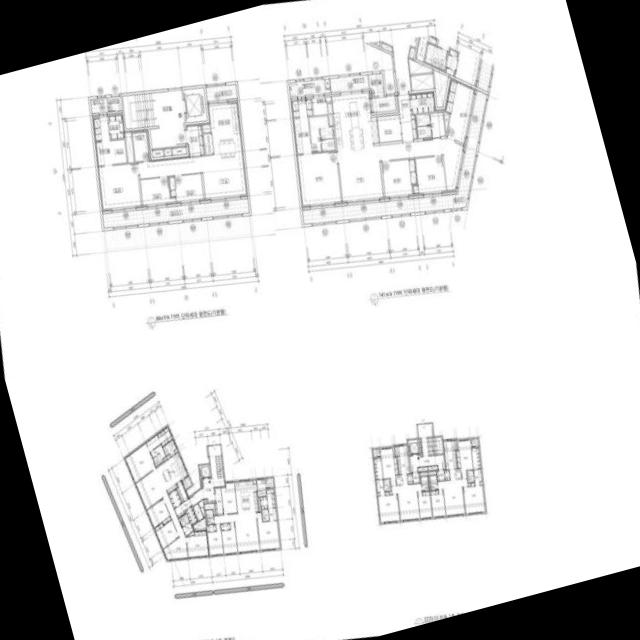background: (0, 0, 640, 640)
space_balconi: (302, 90, 487, 224), (102, 198, 249, 227), (330, 74, 369, 92), (289, 79, 330, 96), (205, 84, 237, 101), (90, 97, 108, 113), (182, 476, 192, 489), (265, 477, 274, 488)
space_bedroom: (296, 151, 341, 207), (97, 163, 141, 211), (444, 77, 475, 144), (382, 158, 417, 198), (412, 155, 446, 195), (124, 442, 155, 482), (168, 173, 204, 203), (140, 177, 176, 206), (256, 512, 280, 550), (146, 499, 171, 528), (379, 447, 398, 485), (377, 491, 399, 523), (463, 482, 485, 514), (154, 520, 178, 549), (377, 114, 401, 142), (456, 439, 473, 478), (186, 530, 209, 558), (221, 481, 237, 513), (221, 522, 237, 554), (207, 524, 223, 555), (430, 489, 445, 517), (417, 491, 432, 518), (207, 524, 216, 531), (221, 523, 230, 530)
space_dressroom: (292, 117, 311, 154), (92, 115, 110, 141), (290, 97, 313, 117), (108, 113, 124, 139), (157, 426, 173, 446), (373, 458, 383, 479), (471, 448, 480, 469), (266, 489, 275, 507), (473, 469, 482, 486), (376, 479, 385, 496), (260, 496, 267, 508)
space_elevator: (183, 87, 207, 122), (407, 439, 419, 454), (199, 464, 211, 478)
space_elevator_hall: (149, 89, 186, 149), (189, 445, 224, 506), (409, 423, 444, 471)
space_front: (396, 93, 417, 143), (185, 123, 204, 156), (410, 91, 435, 113), (174, 498, 191, 517), (214, 487, 223, 514), (169, 489, 181, 508), (185, 506, 197, 525), (436, 469, 444, 480), (412, 472, 420, 483)
space_kitchen: (331, 91, 379, 152), (207, 101, 243, 155), (156, 452, 188, 493), (234, 479, 258, 513), (443, 439, 461, 480), (394, 444, 410, 485)
space_living_room: (337, 138, 464, 203), (138, 152, 247, 200), (135, 468, 187, 560), (214, 512, 259, 552), (437, 478, 468, 516), (391, 483, 421, 520)
space_multipurpose_space: (312, 95, 331, 115)
space_other: (382, 37, 417, 92), (433, 69, 448, 107), (372, 95, 396, 112), (410, 73, 434, 90), (408, 58, 432, 74), (124, 131, 134, 162), (176, 480, 188, 502), (162, 439, 176, 456), (203, 133, 213, 154), (256, 478, 266, 496), (193, 503, 203, 520), (193, 517, 206, 529), (327, 103, 333, 125), (198, 499, 205, 517), (204, 503, 215, 514), (172, 147, 186, 155), (381, 42, 392, 52), (444, 112, 449, 132), (152, 149, 163, 157), (202, 123, 210, 132), (407, 473, 413, 484), (444, 469, 450, 480), (409, 47, 415, 58), (164, 148, 171, 156), (163, 454, 170, 461), (428, 465, 437, 470), (325, 79, 330, 88), (418, 466, 427, 471), (258, 497, 261, 511), (428, 470, 436, 475), (420, 471, 428, 475), (187, 531, 194, 535), (174, 448, 178, 453), (456, 440, 458, 450), (393, 447, 395, 456), (419, 439, 421, 447), (420, 447, 422, 455), (200, 479, 202, 487), (253, 479, 256, 484), (203, 499, 207, 502), (480, 481, 482, 485), (377, 492, 379, 495), (468, 483, 470, 486), (389, 491, 391, 494)
space_outdoor_room: (368, 73, 384, 96), (107, 96, 122, 111), (372, 448, 380, 457), (471, 438, 478, 447)
space_staircase: (122, 92, 158, 128), (426, 437, 443, 454), (215, 455, 223, 478)
space_toilet: (309, 115, 335, 152), (95, 139, 126, 165), (132, 132, 149, 161), (429, 112, 445, 136), (150, 444, 165, 466), (146, 434, 160, 451), (417, 125, 431, 138), (416, 113, 430, 126), (182, 522, 193, 535), (429, 475, 438, 490), (420, 476, 429, 491), (205, 509, 214, 524), (268, 508, 276, 520), (182, 513, 189, 524), (179, 516, 186, 527), (466, 469, 474, 476), (384, 484, 391, 491), (262, 514, 269, 521), (383, 478, 390, 485), (467, 476, 474, 482), (261, 509, 268, 515)
